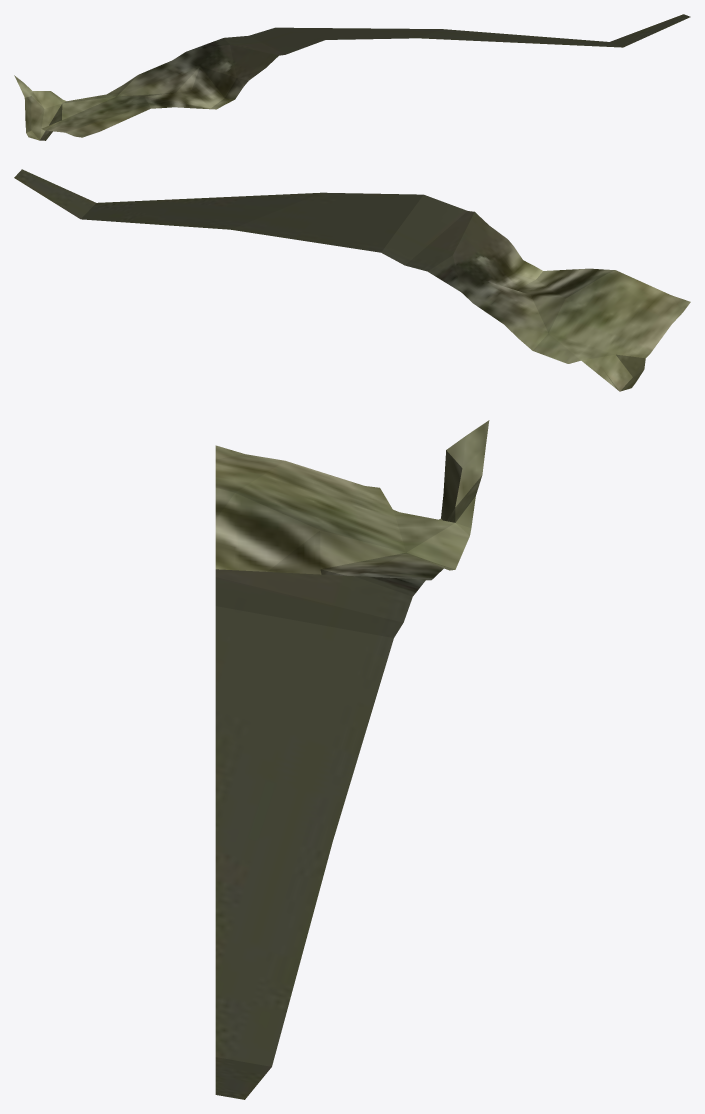
The picture shows the model from 3 angles, top to bottom: view 1: azimuth 30°, elevation 25°; view 2: azimuth 150°, elevation 25°; view 3: azimuth 270°, elevation 25°; orthographic projection. The views are drawn at different scales.
Bounding box in the file's own units: 5.9 × 0.787 × 1.15.
Materials: 1 (1 with a texture image).
